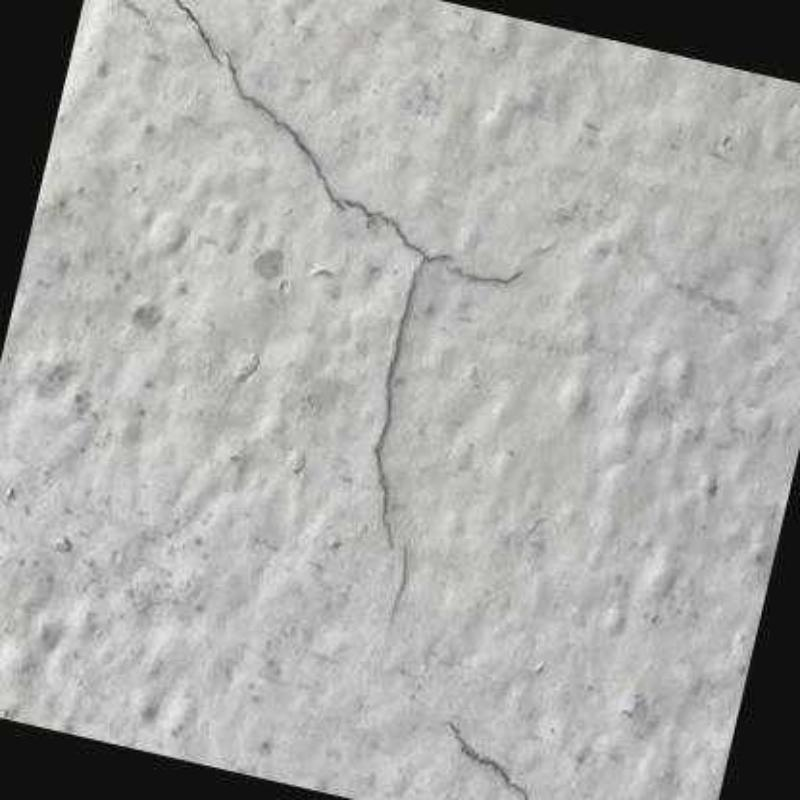pothole: (167, 0, 427, 563), (442, 716, 529, 798), (425, 252, 525, 287)
